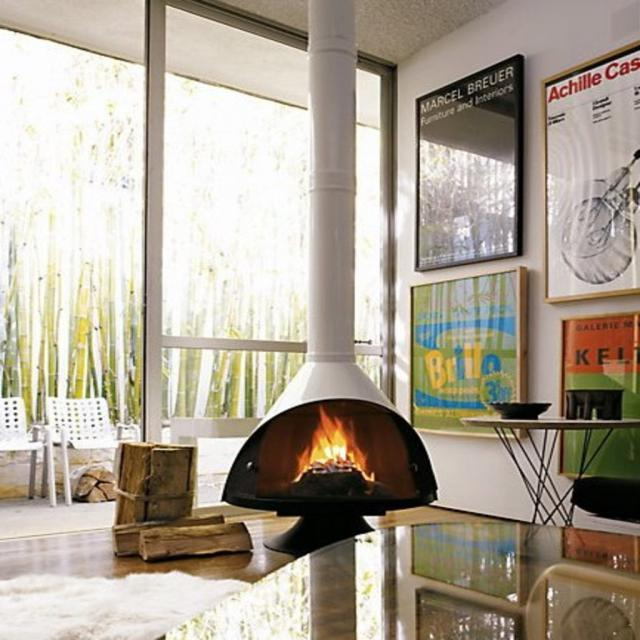Fire: (296, 407, 376, 498)
